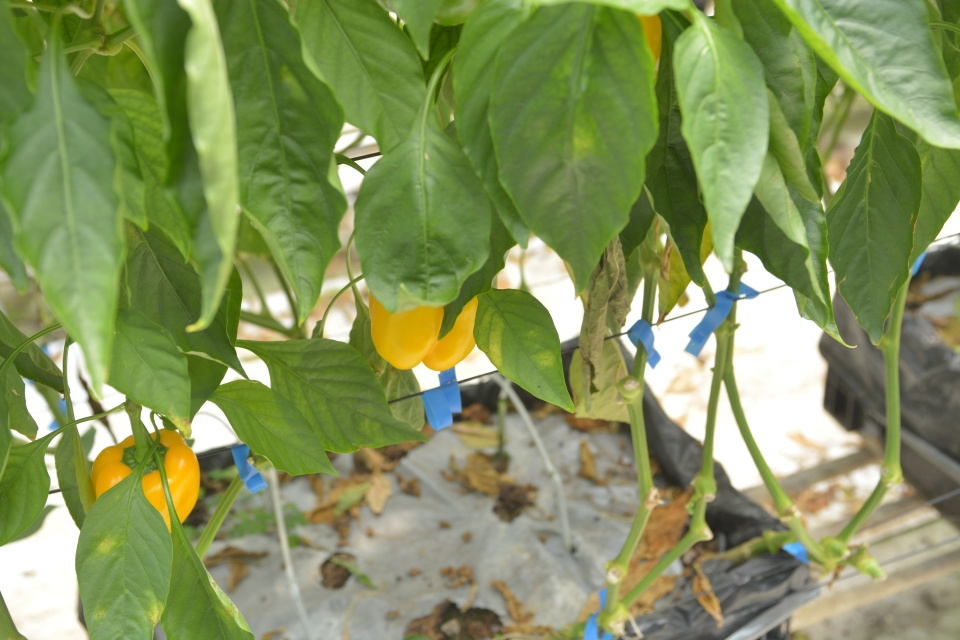fruit: (89, 425, 202, 538), (366, 288, 479, 373)
pedicle: (119, 440, 170, 476)
